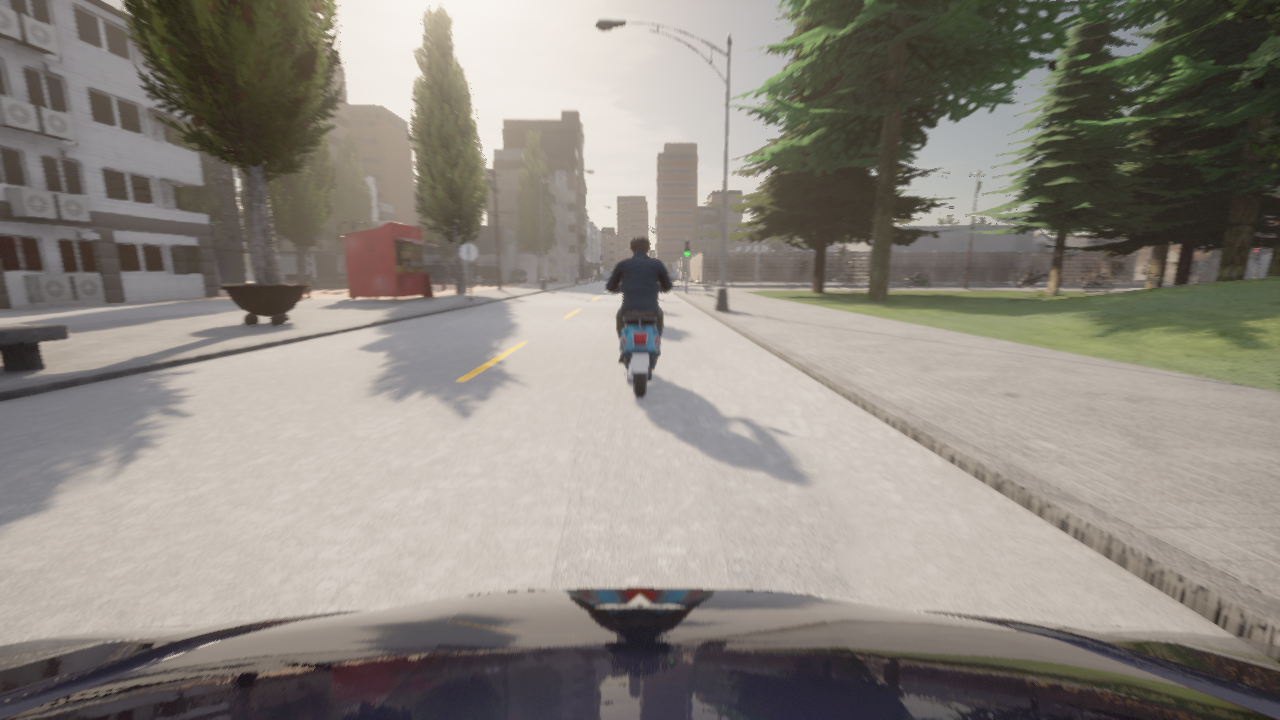cyclist: (0, 588, 1279, 719), (602, 270, 678, 397), (1017, 269, 1048, 288), (905, 274, 931, 288), (1082, 277, 1113, 288), (746, 271, 767, 280), (725, 268, 736, 279), (779, 271, 792, 280), (751, 273, 763, 280), (811, 273, 828, 277), (833, 271, 835, 273)
